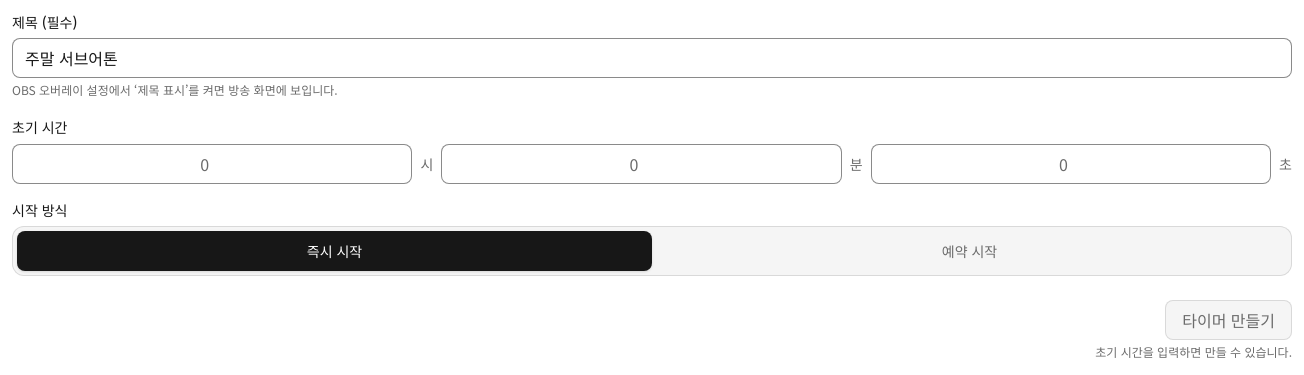
CreateTimerForm › 초기 시간이 0이면 만들기 버튼이 비활성이고 이유가 연결되어 있다
Expected: the button "타이머 만들기" is disabled, top-left (1165, 300), bottom-right (1292, 340)
Type "2" into the number field labelled "시" at (212, 164), box top-left (12, 144), bottom-right (412, 184)
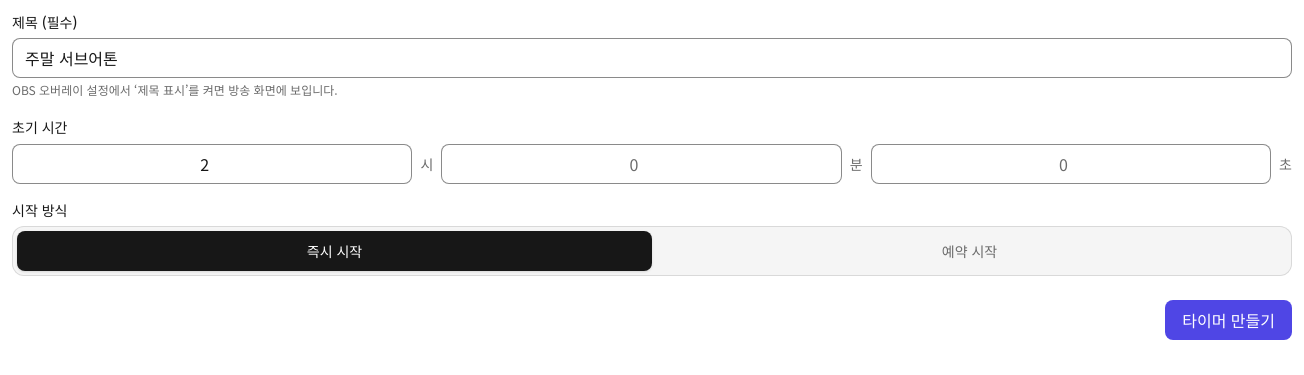
Now the button "타이머 만들기" is enabled, box top-left (1165, 300), bottom-right (1292, 340)
Now the text "초기 시간을 입력하면 만들 수 있습니다." is gone
